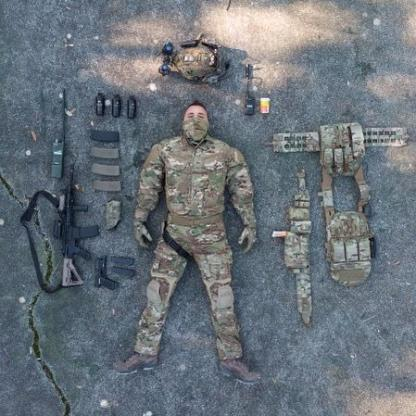Grenade: (94, 92, 107, 117), (126, 95, 138, 118), (111, 95, 122, 117)
Gun: (53, 165, 100, 289)
Pistol: (93, 254, 119, 291)
